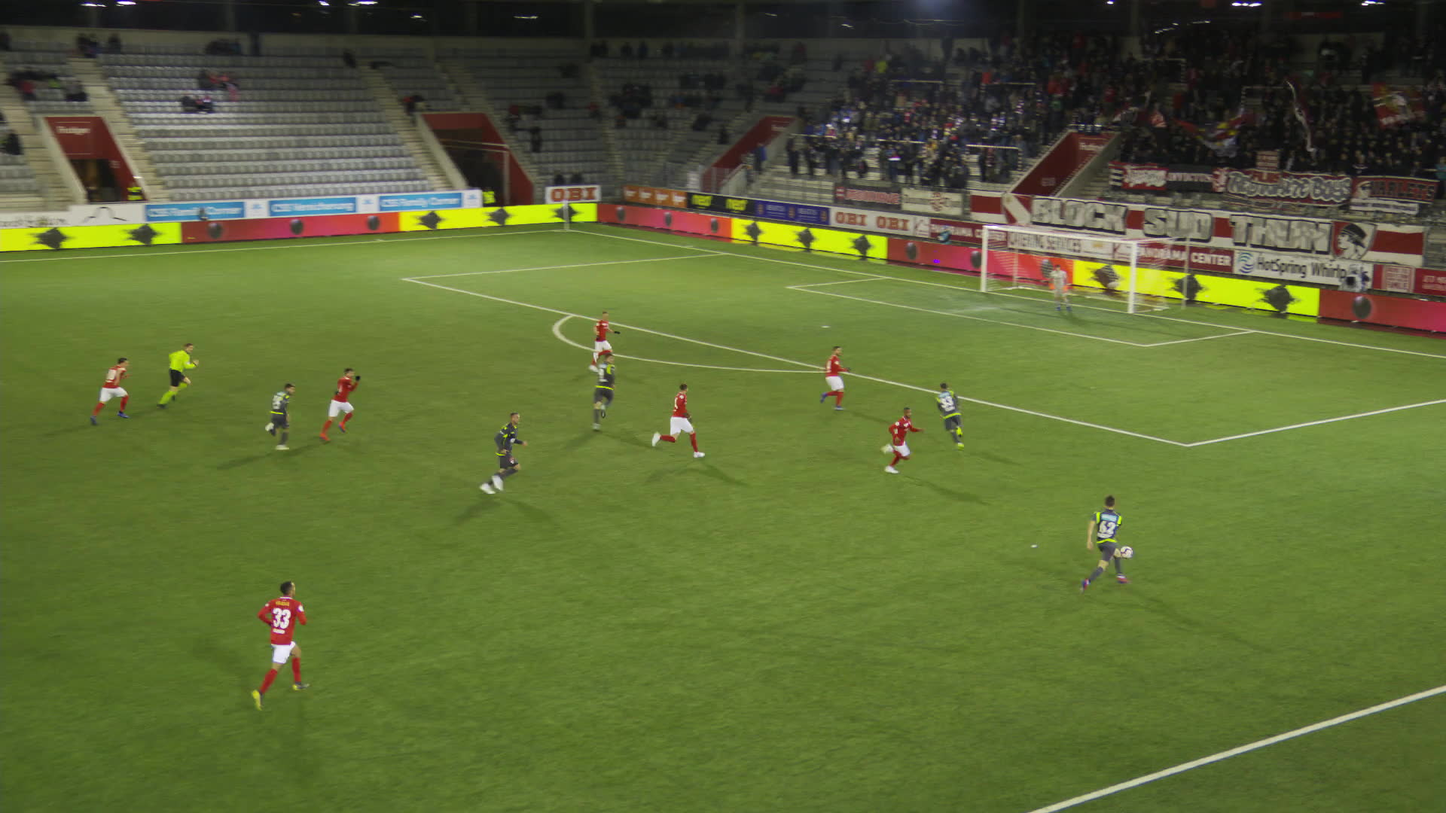ball: (1119, 546, 1132, 558)
player: (256, 582, 315, 711), (1077, 495, 1130, 595), (480, 410, 525, 493), (659, 383, 704, 462), (870, 405, 920, 473), (88, 356, 133, 427), (323, 367, 365, 440), (264, 384, 296, 451), (594, 354, 621, 431), (941, 382, 972, 448), (825, 346, 856, 410), (590, 310, 621, 371), (1052, 263, 1076, 312)
referee: (155, 342, 198, 409)
